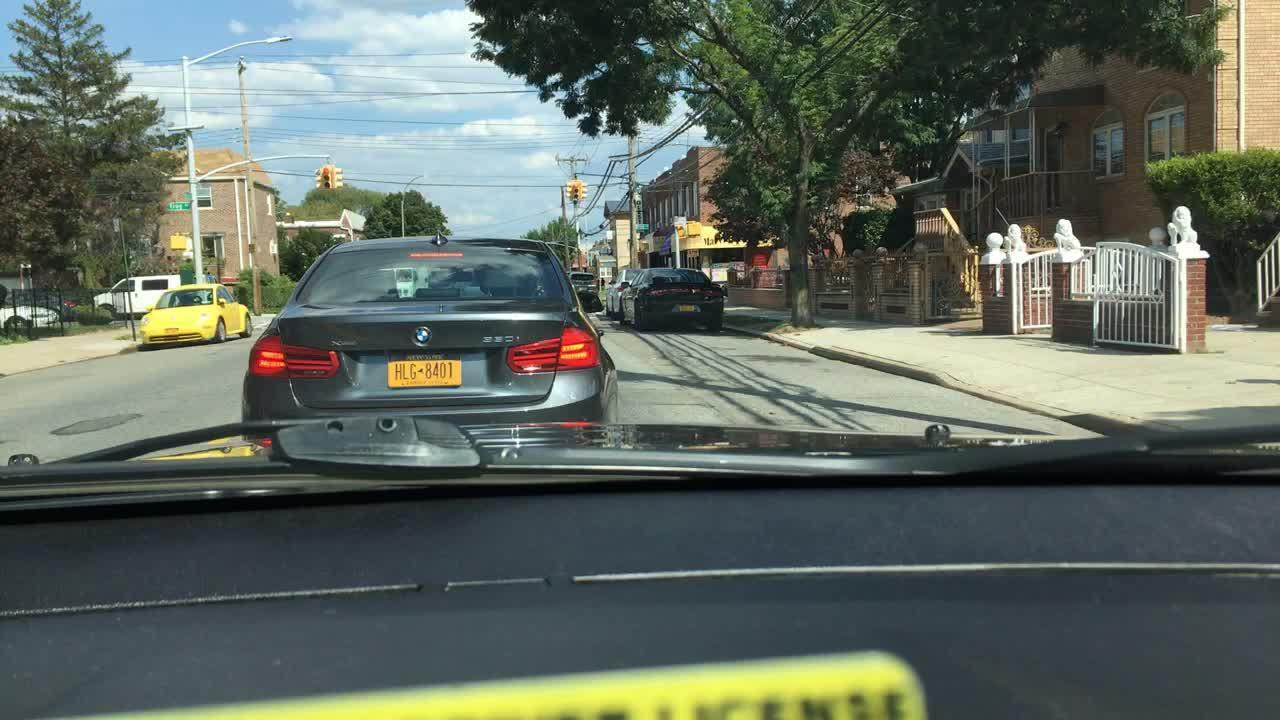bmw: (403, 321, 442, 352)
